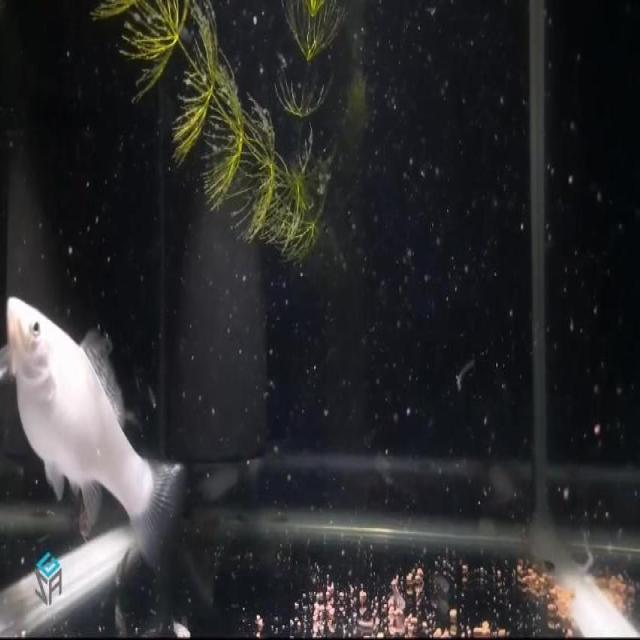PlatyFish: (3, 275, 196, 582)
